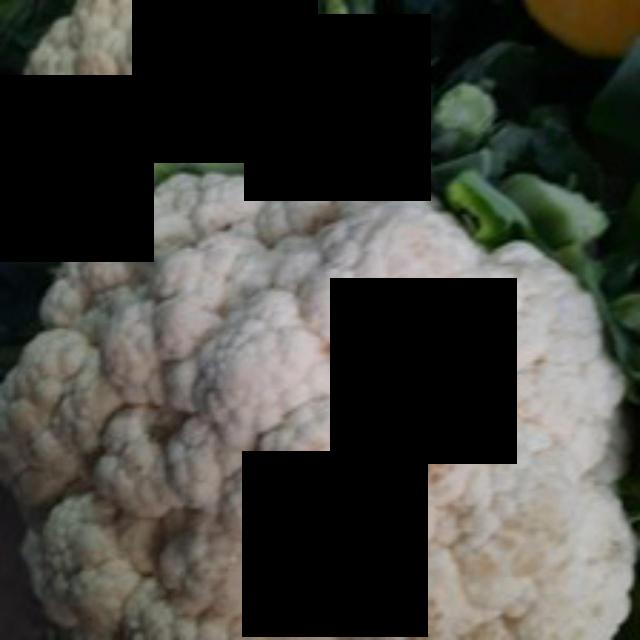cauliflower: (0, 160, 637, 637)
